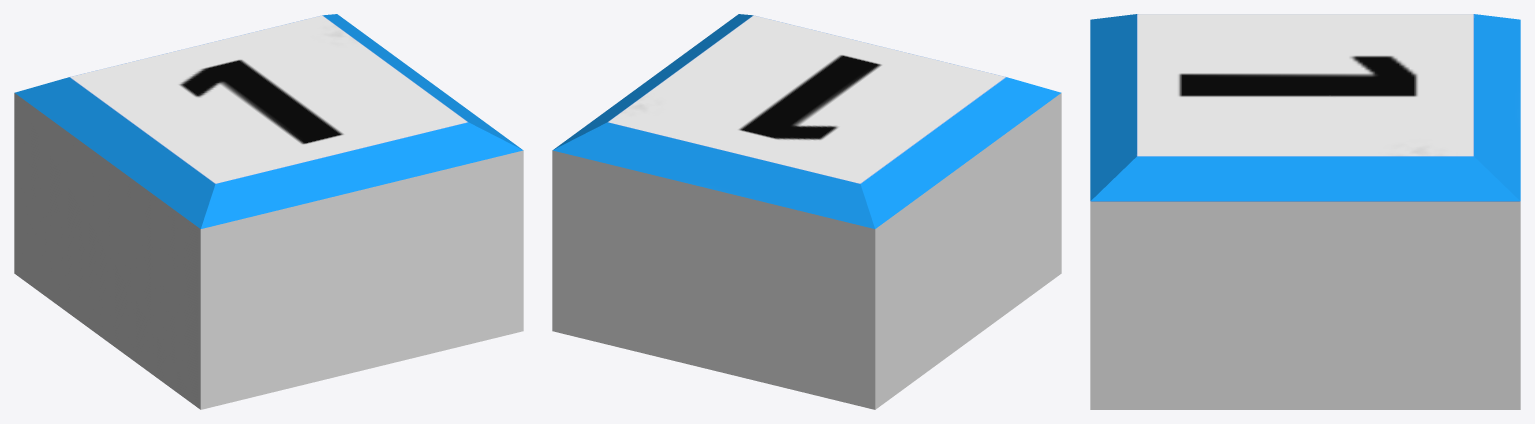
The picture shows the model from 3 angles, left to right: view 1: azimuth 30°, elevation 25°; view 2: azimuth 150°, elevation 25°; view 3: azimuth 270°, elevation 25°; orthographic projection. The views are drawn at different scales.
Parts seen in each view (by area): view 1: button.006; view 2: button.006; view 3: button.006.
Boxes of the visible parts, left/top/right/bottom form: button.006: left=14, top=14, right=523, bottom=409; button.006: left=552, top=14, right=1061, bottom=409; button.006: left=1090, top=14, right=1520, bottom=409.
Size of the model in its own units: 20 by 12 by 20.
